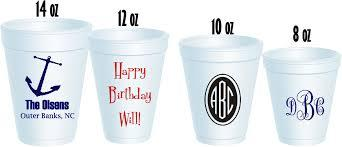Plastic cup: (0, 9, 91, 147), (176, 12, 269, 147), (85, 13, 177, 147), (256, 24, 339, 147)
